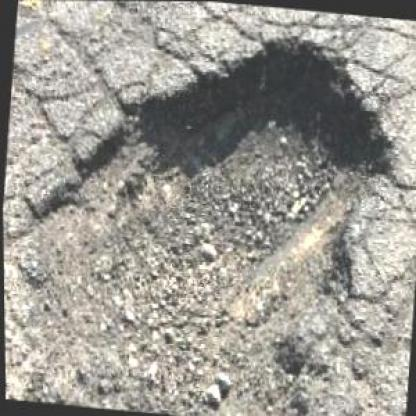pothole: (0, 8, 412, 415)
